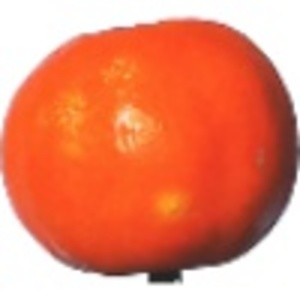tangerina: (2, 15, 300, 282)
